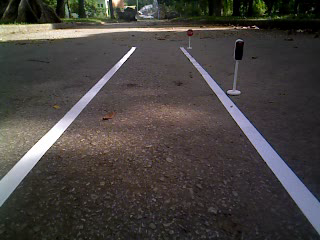Red: (229, 36, 249, 65)
Stop: (185, 27, 195, 38)
